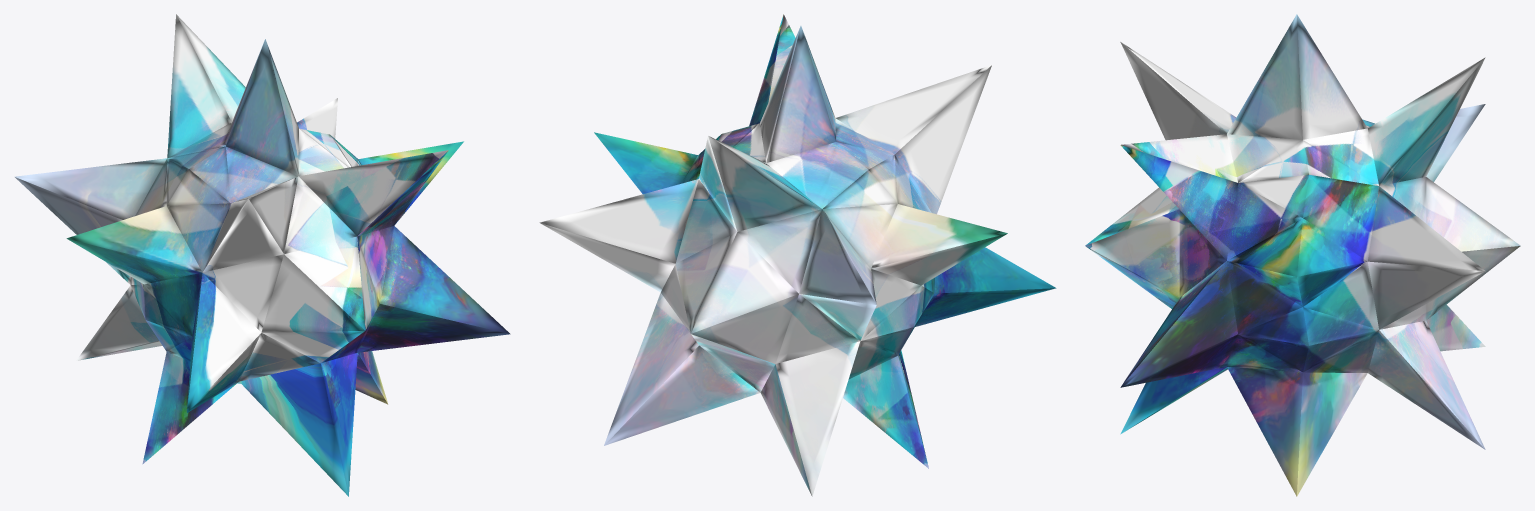
Rendered from Jewelry Type 2.glb.
3 renders of one model, left to right at view 1: azimuth 30°, elevation 25°; view 2: azimuth 150°, elevation 25°; view 3: azimuth 270°, elevation 25°, orthographic. The views are drawn at different scales.
Visible parts, largest first — view 1: Jewelry008_M_Jewelry001_0; view 2: Jewelry008_M_Jewelry001_0; view 3: Jewelry008_M_Jewelry001_0.
Part boxes in pixels (x1,y1,x2,y2): Jewelry008_M_Jewelry001_0: (14, 14, 510, 496); Jewelry008_M_Jewelry001_0: (539, 14, 1056, 496); Jewelry008_M_Jewelry001_0: (1085, 14, 1520, 496).
Size of the model in its own units: 1.46 by 1.39 by 1.31.
1 material, 1 textured.
